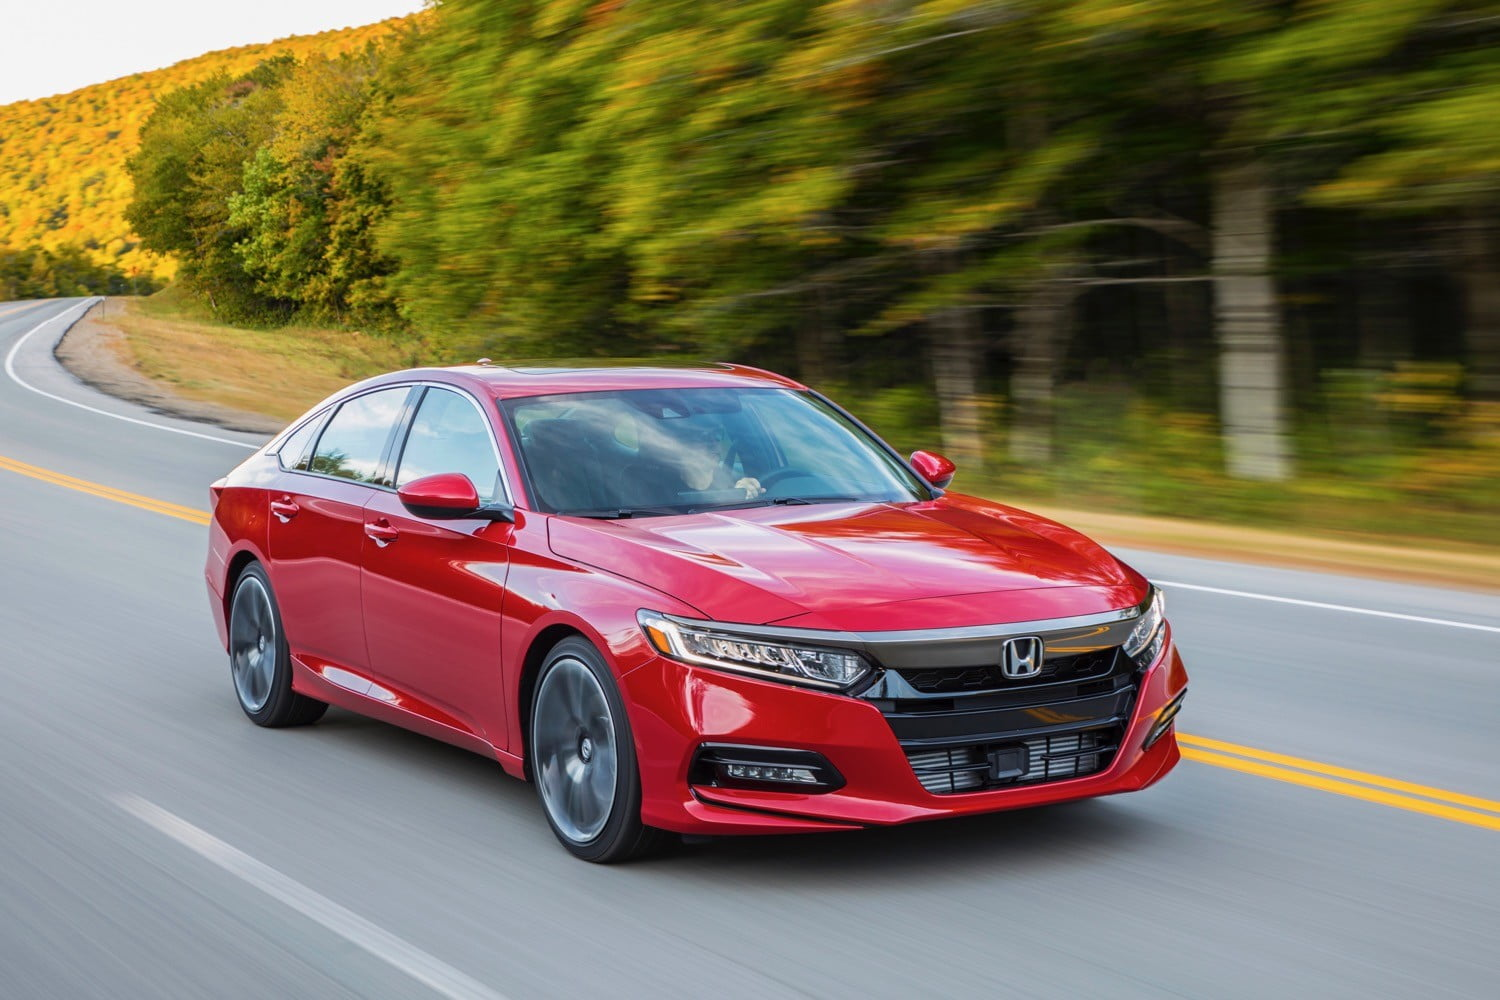car: (202, 358, 1187, 867)
